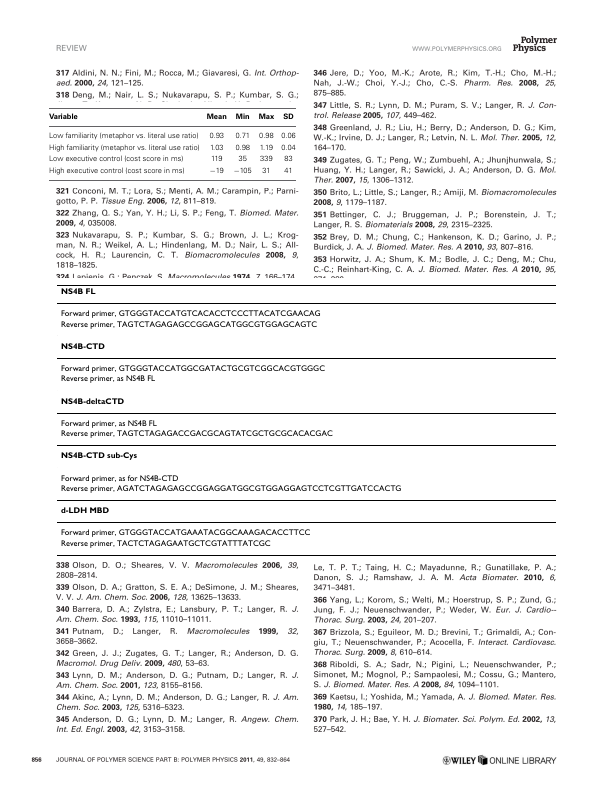borderless: (56, 283, 556, 555), (48, 107, 296, 181)
cell: (59, 484, 402, 494), (59, 429, 333, 439), (59, 364, 326, 374), (59, 320, 318, 330), (59, 310, 321, 319), (59, 529, 311, 538), (59, 539, 271, 549), (47, 144, 200, 153), (47, 132, 199, 141), (47, 167, 185, 176), (47, 155, 184, 164), (59, 474, 179, 484), (59, 419, 157, 429), (59, 375, 156, 384), (59, 452, 138, 461), (59, 397, 125, 407), (59, 342, 105, 352), (59, 507, 109, 516), (59, 288, 96, 297), (47, 113, 78, 121), (232, 167, 252, 176), (205, 113, 227, 121), (257, 132, 274, 141), (208, 132, 224, 141), (234, 132, 250, 141), (280, 132, 296, 141), (208, 144, 224, 153), (234, 144, 250, 153), (280, 144, 296, 153), (208, 167, 224, 176), (257, 113, 274, 121), (258, 144, 273, 153), (258, 155, 273, 164), (234, 113, 250, 121), (209, 155, 223, 164), (282, 113, 294, 121), (237, 155, 247, 164), (283, 155, 293, 164), (261, 167, 271, 176), (283, 167, 293, 176)
